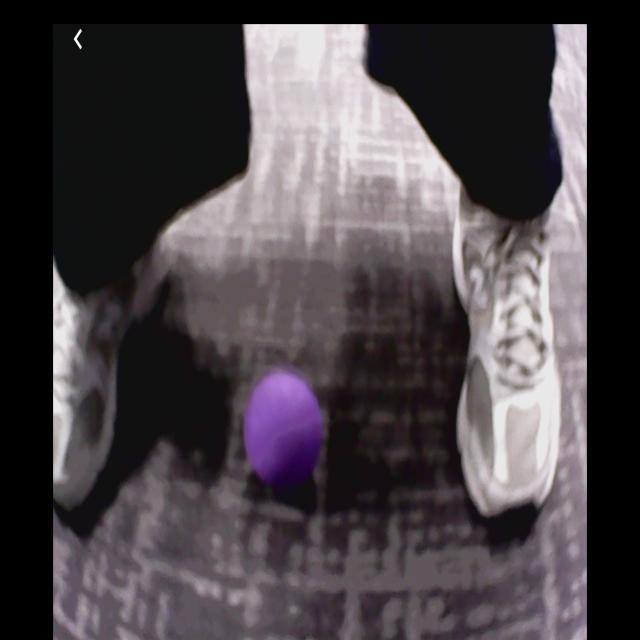ball: (247, 374, 322, 485)
